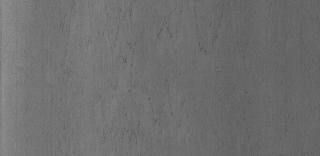silk spot: (93, 1, 225, 129)
